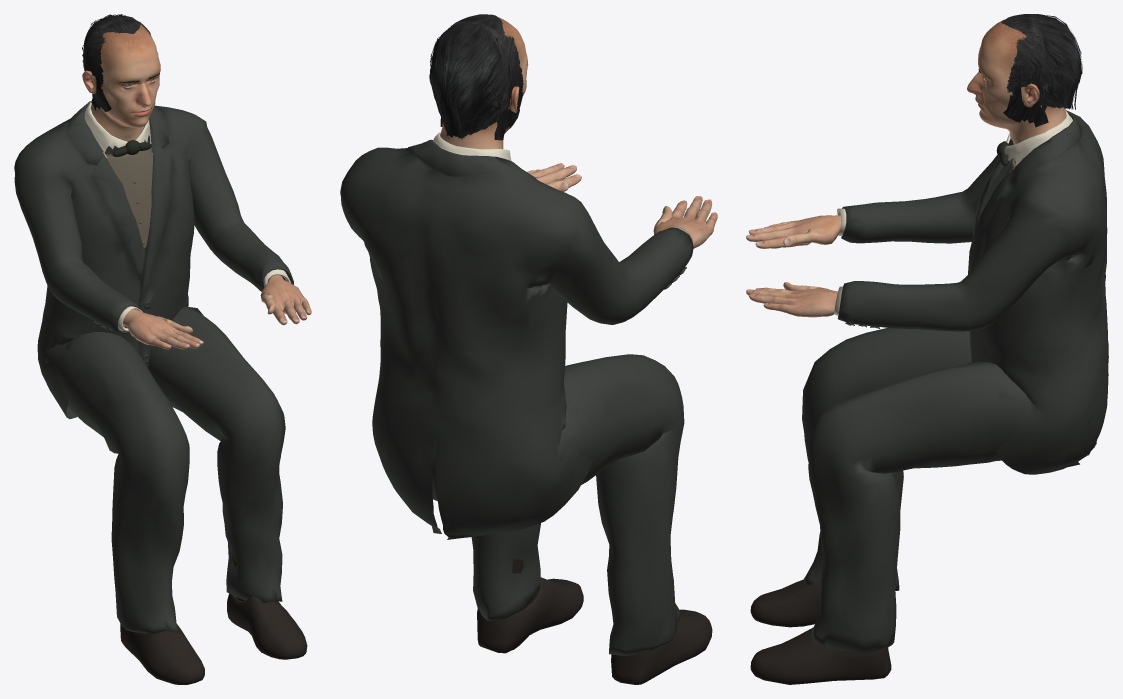
File: snow-character.glb
3 renders of one model, left to right at view 1: azimuth 30°, elevation 25°; view 2: azimuth 150°, elevation 25°; view 3: azimuth 270°, elevation 25°, orthographic. The views are drawn at different scales.
Visible parts, largest first — view 1: Snow_upper_Coat, Snow_character_Boot, Snow_head_Skin, Snow_upper_Skin, Snow_upper_Waistcoat, Snow_head_Hair, Snow_upper_Shirt; view 2: Snow_upper_Coat, Snow_head_Hair, Snow_character_Boot, Snow_upper_Skin, Snow_head_Skin, Snow_upper_Shirt; view 3: Snow_upper_Coat, Snow_character_Boot, Snow_head_Hair, Snow_head_Skin, Snow_upper_Skin, Snow_upper_Shirt.
Boxes of the visible parts, left/top/right/bottom form: Snow_upper_Coat: left=14, top=100, right=293, bottom=633; Snow_character_Boot: left=120, top=553, right=307, bottom=684; Snow_head_Skin: left=82, top=24, right=160, bottom=141; Snow_upper_Skin: left=123, top=275, right=311, bottom=349; Snow_upper_Waistcoat: left=105, top=139, right=153, bottom=247; Snow_head_Hair: left=82, top=14, right=150, bottom=111; Snow_upper_Shirt: left=84, top=101, right=290, bottom=331; Snow_upper_Coat: left=340, top=139, right=693, bottom=655; Snow_head_Hair: left=429, top=14, right=523, bottom=140; Snow_character_Boot: left=477, top=559, right=712, bottom=684; Snow_upper_Skin: left=527, top=163, right=717, bottom=248; Snow_head_Skin: left=429, top=17, right=527, bottom=148; Snow_upper_Shirt: left=433, top=132, right=692, bottom=239; Snow_upper_Coat: left=802, top=110, right=1108, bottom=653; Snow_character_Boot: left=750, top=580, right=891, bottom=684; Snow_head_Hair: left=1001, top=14, right=1082, bottom=127; Snow_head_Skin: left=967, top=19, right=1065, bottom=144; Snow_upper_Skin: left=746, top=215, right=841, bottom=317; Snow_upper_Shirt: left=834, top=110, right=1072, bottom=315.
Bounding box in the file's own units: 0.5116 × 1.39 × 0.7282.
Materials: 10 (4 with a texture image).
